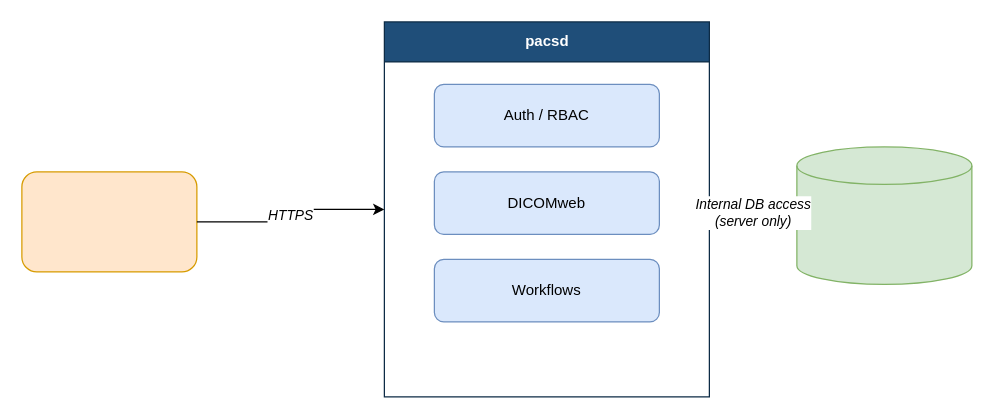
Some shapes in this 994 by 419 pixel diagram are drawn without their labels. Here are the shapes that lost their labels. From the top down, the centre of each, then its label:
pixel 109 221: Viewer
pixel 884 215: PostgreSQL
